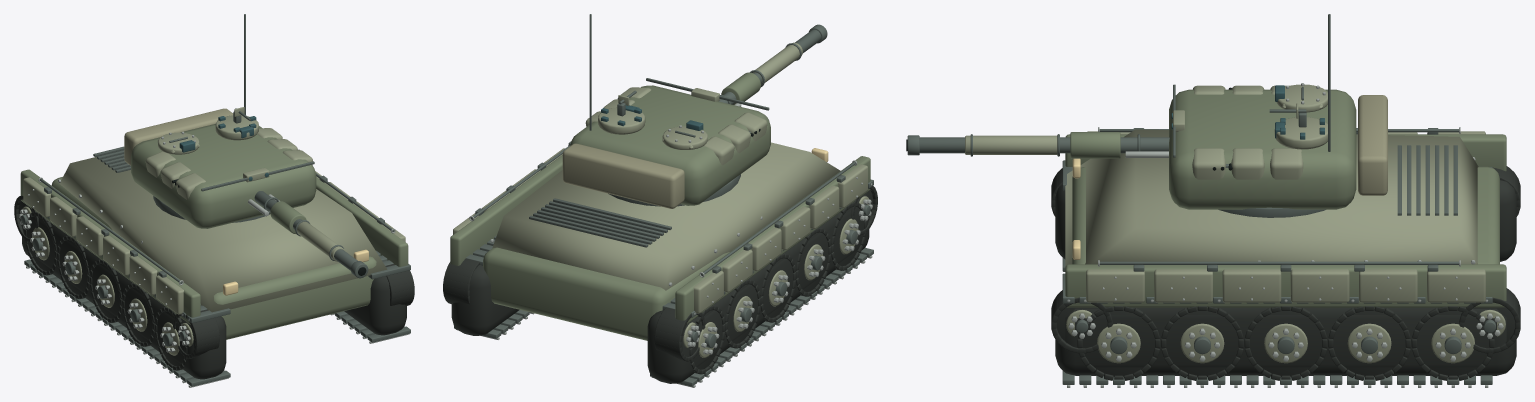
Rendered from warden.glb.
The picture shows the model from 3 angles, left to right: view 1: azimuth 30°, elevation 25°; view 2: azimuth 150°, elevation 25°; view 3: azimuth 270°, elevation 25°; orthographic projection. The views are drawn at different scales.
Visible parts, largest first — view 1: Warden_Armor_edge, Cast turret, Warden_Field_olive, Warden_Rubber, Warden_Gun_steel, Turret_Armor_edge, Stowage, WheelLSprocket_Rubber, Turret_Gun_steel, RecoilAssembly_Gun_steel, WheelRSprocket_Rubber, Warden_Recoil_steel (+10 smaller); view 2: Warden_Armor_edge, Warden_Field_olive, Cast turret, Warden_Rubber, Warden_Gun_steel, Stowage, Turret_Armor_edge, WheelLIdler_Rubber, Turret_Gun_steel, WheelRIdler_Rubber, Thermal sleeve, RecoilAssembly_Gun_steel (+9 smaller); view 3: Warden_Armor_edge, Warden_Rubber, Cast turret, Warden_Field_olive, Warden_Gun_steel, Turret_Armor_edge, Stowage, RecoilAssembly_Gun_steel, Thermal sleeve, WheelR1_Rubber, WheelR3_Rubber, WheelR2_Rubber (+12 smaller).
Part boxes in pixels (<box>): Warden_Armor_edge: <box>23,157,405,314</box>; Cast turret: <box>131,124,316,228</box>; Warden_Field_olive: <box>20,169,408,339</box>; Warden_Rubber: <box>22,205,406,379</box>; Warden_Gun_steel: <box>24,146,410,386</box>; Turret_Armor_edge: <box>145,107,312,199</box>; Stowage: <box>124,108,233,165</box>; WheelLSprocket_Rubber: <box>173,309,219,358</box>; Turret_Gun_steel: <box>153,14,314,222</box>; RecoilAssembly_Gun_steel: <box>254,191,368,278</box>; WheelRSprocket_Rubber: <box>385,264,414,305</box>; Warden_Recoil_steel: <box>26,177,409,387</box>; Warden_Armor_edge: <box>453,142,867,313</box>; Warden_Field_olive: <box>450,155,870,340</box>; Cast turret: <box>570,85,770,205</box>; Warden_Rubber: <box>451,194,869,383</box>; Warden_Gun_steel: <box>454,141,873,386</box>; Stowage: <box>562,143,684,208</box>; Turret_Armor_edge: <box>585,87,767,165</box>; WheelLIdler_Rubber: <box>654,307,705,361</box>; Turret_Gun_steel: <box>589,14,769,206</box>; WheelRIdler_Rubber: <box>443,258,479,304</box>; Thermal sleeve: <box>753,42,802,84</box>; RecoilAssembly_Gun_steel: <box>719,24,827,104</box>; Warden_Armor_edge: <box>1065,129,1485,302</box>; Warden_Rubber: <box>1055,180,1516,375</box>; Cast turret: <box>1169,89,1356,209</box>; Warden_Field_olive: <box>1065,134,1506,307</box>; Warden_Gun_steel: <box>1062,128,1492,384</box>; Turret_Armor_edge: <box>1173,84,1327,179</box>; Stowage: <box>1358,95,1387,195</box>; RecoilAssembly_Gun_steel: <box>907,134,1169,156</box>; Thermal sleeve: <box>965,135,1057,154</box>; WheelR1_Rubber: <box>1161,306,1243,380</box>; WheelR3_Rubber: <box>1328,306,1410,380</box>; WheelR2_Rubber: <box>1244,306,1327,380</box>.
Bounding box in the file's own units: 5.11 × 5.52 × 9.19.
